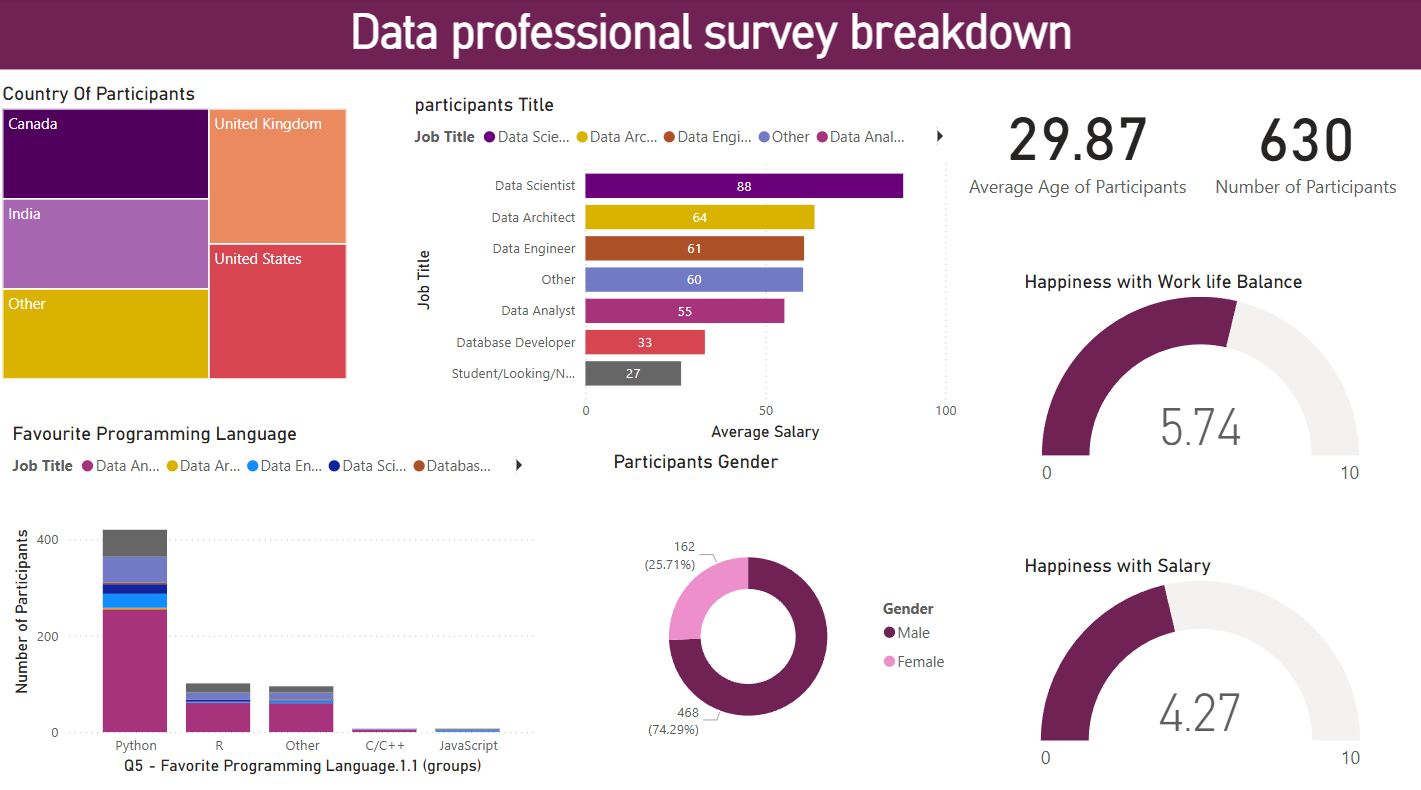

The page's visual inventory and layout, read from the dashboard file:
{"tool":"powerbi","page":{"name":"Page 1","canvas":[1280,720],"ordinal":0},"visuals":[{"type":"textbox","box":[0,0,1280,63.9],"z":0},{"type":"barChart","title":"participants Title","fields":{"Category":["Data Professional Survey.Q1 - Which Title Best Fits your Current Role?.1"],"Y":["Avg(Data Professional Survey.average salary)"],"Series":["Data Professional Survey.Q1 - Which Title Best Fits your Current Role?.1"]},"box":[369,64,495,316],"z":1000},{"type":"card","fields":{"Values":["Count(Data Professional Survey.Unique ID)"]},"box":[1071,74,202,112],"z":2000},{"type":"card","fields":{"Values":["Avg(Data Professional Survey.Q10 - Current Age)"]},"box":[864,75,207,109],"z":3000},{"type":"columnChart","title":"Favourite Programming Language","fields":{"Category":["Data Professional Survey.Q5 - Favorite Programming Language.1.1 (groups)"],"Y":["CountNonNull(Data Professional Survey.Unique ID)"],"Series":["Data Professional Survey.Q1 - Which Title Best Fits your Current Role?.1"]},"box":[9,380,478,321],"z":4000},{"type":"treemap","title":"Country Of Participants ","fields":{"Group":["Data Professional Survey.Q11 - Which Country do you live in?.1"],"Values":["Count(Data Professional Survey.Q11 - Which Country do you live in?.1)"]},"box":[0,75,318,271],"z":5000},{"type":"gauge","title":"Happiness with Work life Balance","fields":{"Y":["Avg(Data Professional Survey.Q6 - How Happy are you in your Current Position with the following? (Work/Life Balance))"],"MinValue":["Min(Data Professional Survey.Q6 - How Happy are you in your Current Position with the following? (Work/Life Balance))"],"MaxValue":["Max(Data Professional Survey.Q6 - How Happy are you in your Current Position with the following? (Work/Life Balance))"]},"box":[915,244,325,202],"z":6000},{"type":"gauge","title":"Happiness with Salary","fields":{"Y":["Avg(Data Professional Survey.Q6 - How Happy are you in your Current Position with the following? (Salary))"],"MinValue":["Min(Data Professional Survey.Q6 - How Happy are you in your Current Position with the following? (Salary))"],"MaxValue":["Max(Data Professional Survey.Q6 - How Happy are you in your Current Position with the following? (Salary))"]},"box":[915,498,325,203],"z":7000},{"type":"donutChart","title":"Participants Gender","fields":{"Category":["Data Professional Survey.Q9 - Male/Female?"],"Y":["CountNonNull(Data Professional Survey.Q9 - Male/Female?)"]},"box":[547,405,317,315],"z":8000}]}

Visuals, with their boxes in screenshot pixels (x1, y1, x2, y2), scaled from the page's 1280x720 canvas onto the 1421x790 screenshot:
textbox: (x1=0, y1=0, x2=1420, y2=70)
"participants Title" barChart: (x1=410, y1=70, x2=959, y2=417)
card - Count(Data Professional Survey.Unique ID): (x1=1189, y1=81, x2=1413, y2=204)
card - Avg(Data Professional Survey.Q10 - Current Age): (x1=959, y1=82, x2=1189, y2=202)
"Favourite Programming Language" columnChart: (x1=10, y1=417, x2=541, y2=769)
"Country Of Participants " treemap: (x1=0, y1=82, x2=353, y2=380)
"Happiness with Work life Balance" gauge: (x1=1016, y1=268, x2=1377, y2=489)
"Happiness with Salary" gauge: (x1=1016, y1=546, x2=1377, y2=769)
"Participants Gender" donutChart: (x1=607, y1=444, x2=959, y2=789)
